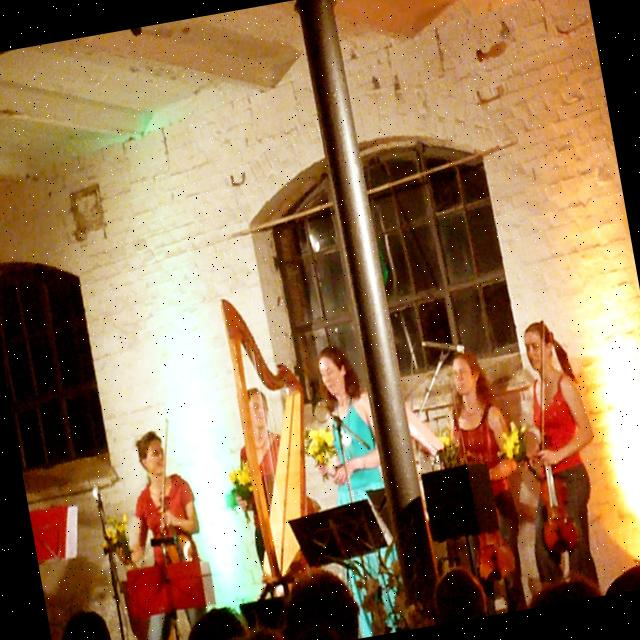harp: (210, 281, 332, 586)
